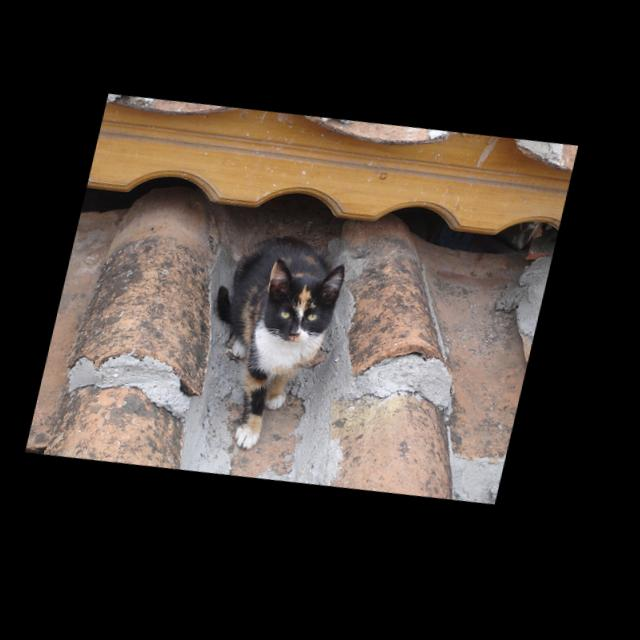animals: (262, 257, 347, 349)
